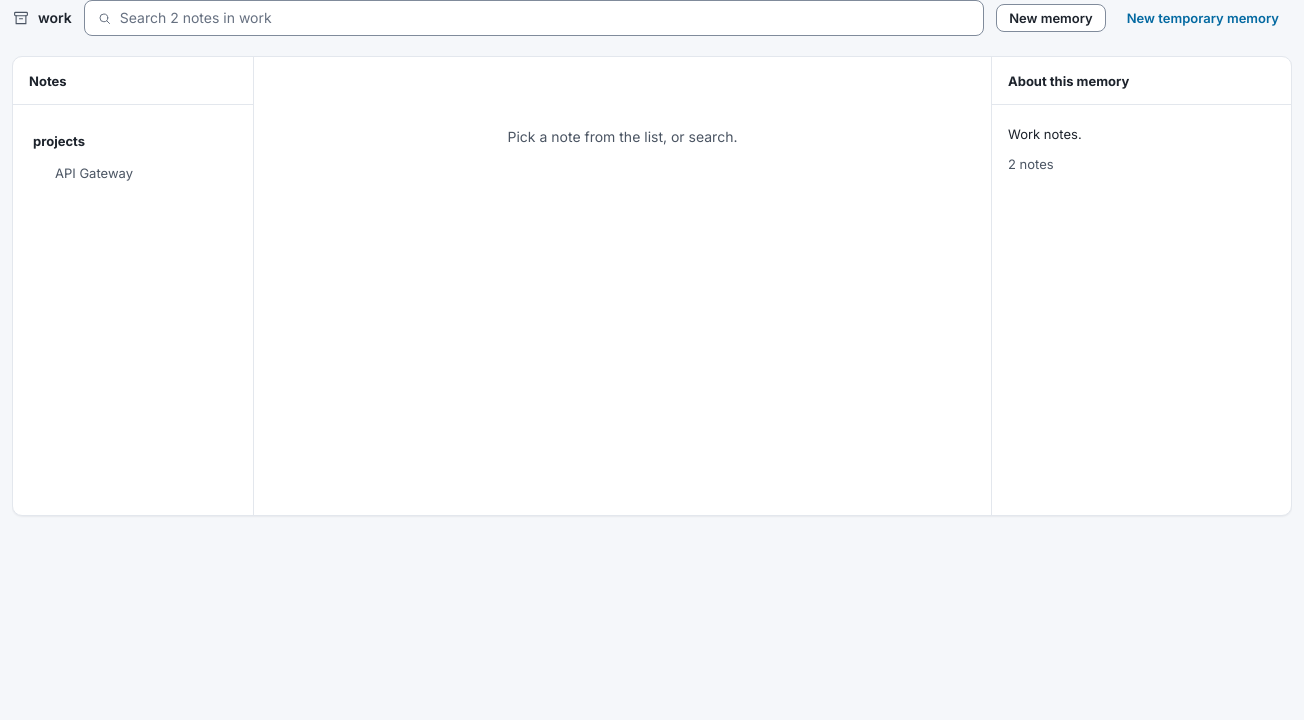
Test: Memories › Browse › shows a captured note as its text and three plain facts, without tags or the hash
Click the button "API Gateway" at (133, 173), box [25, 157, 241, 189]
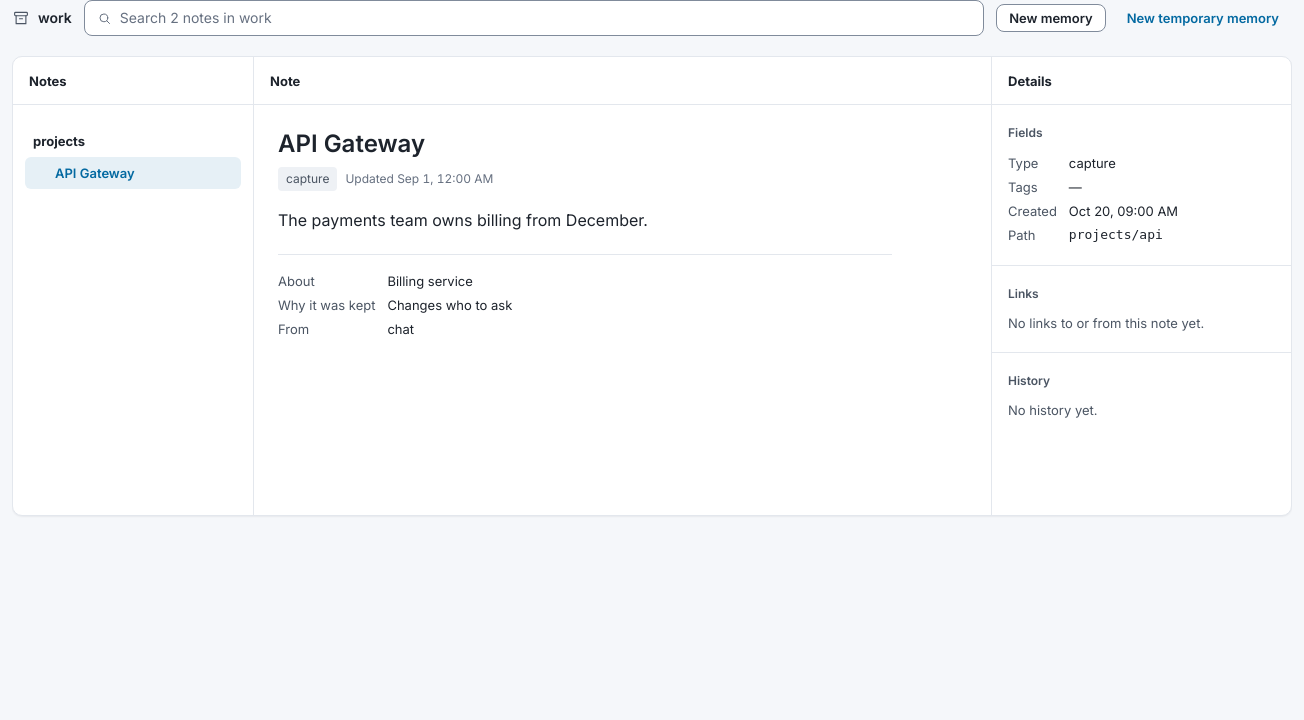
Now the text "The payments team owns billing from December." is shown, box [278, 210, 648, 230]
Now the text "Billing service" is shown, box [387, 273, 473, 289]
Now the text "Changes who to ask" is shown, box [387, 297, 512, 313]
